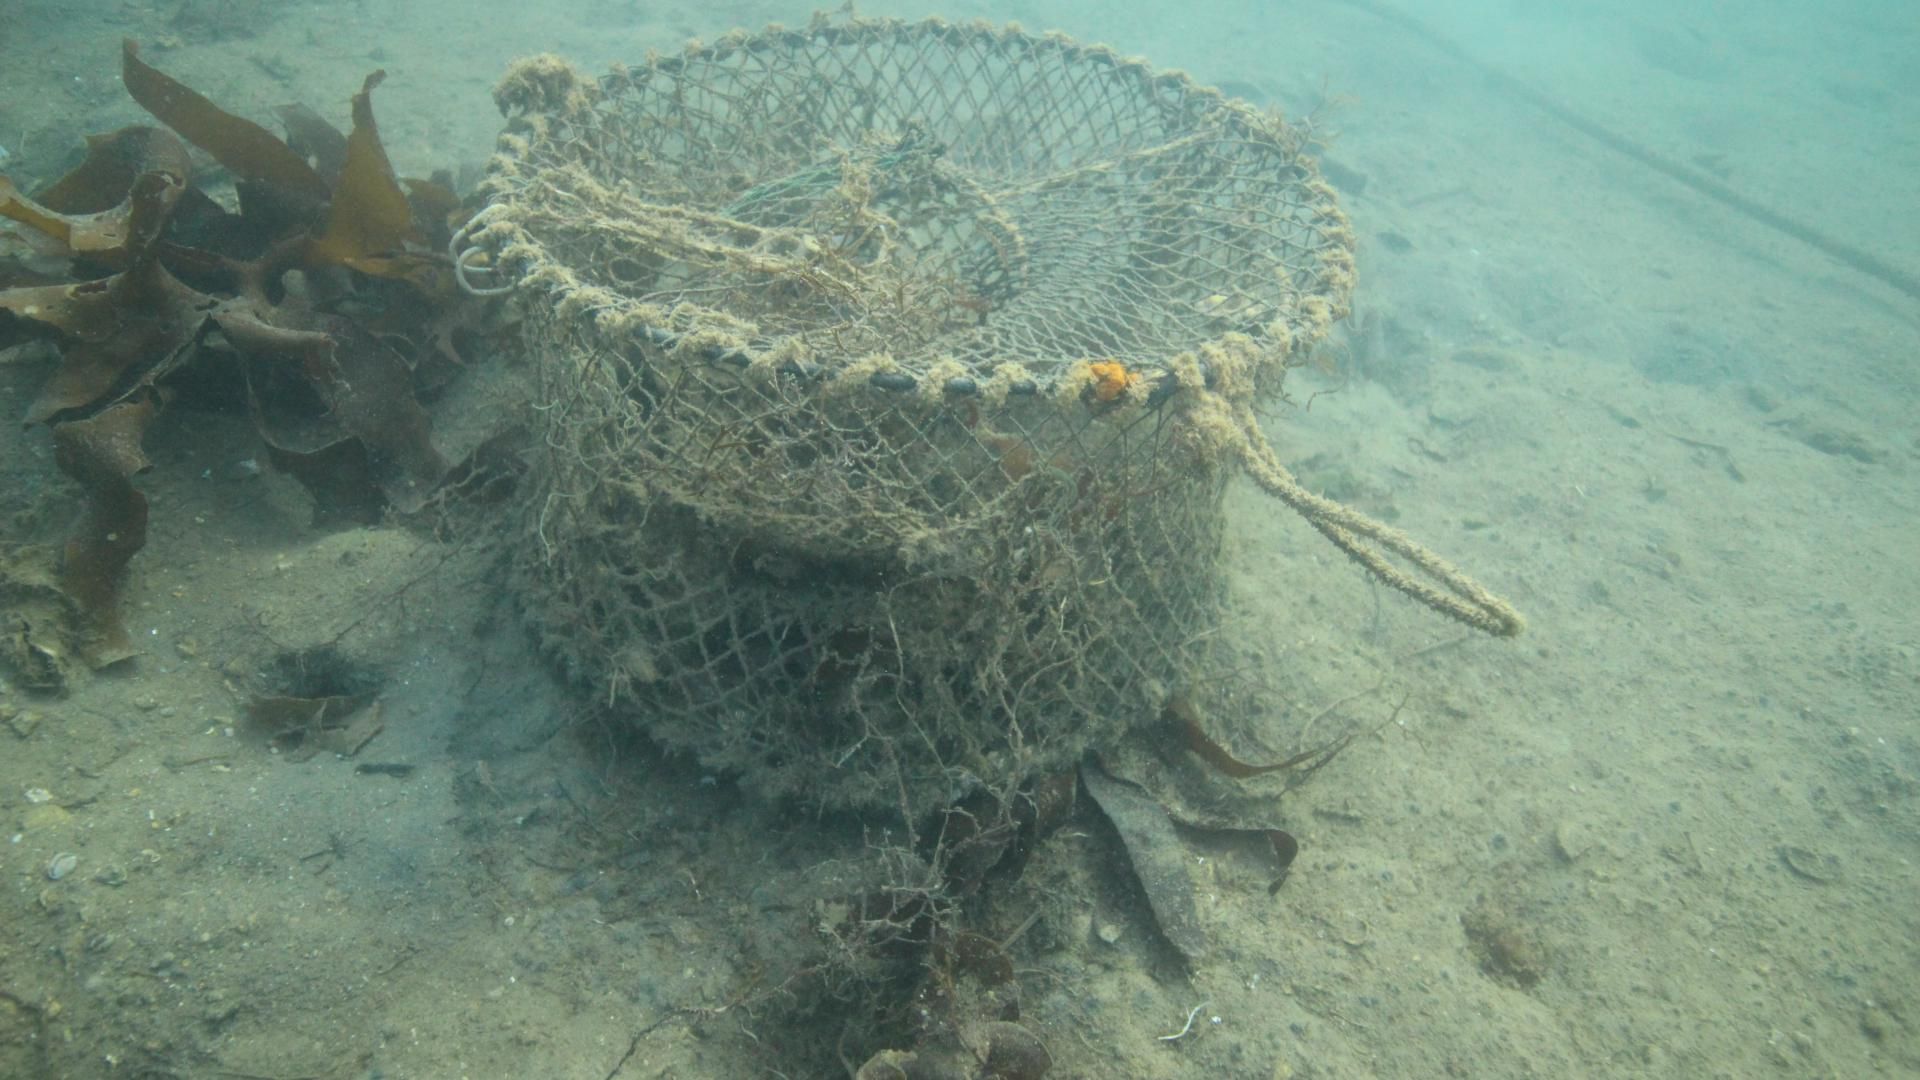circular fish trap: (477, 18, 1358, 808)
rope: (1228, 404, 1527, 641)
